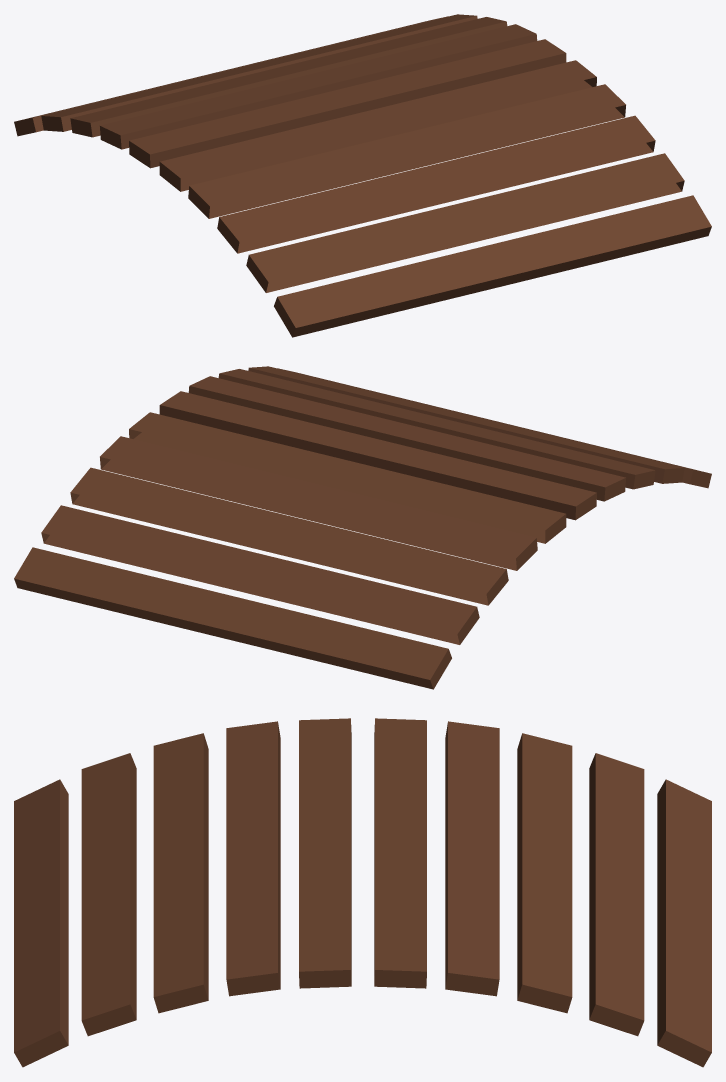
The model's file is Bridge_2.fbx.
The picture shows the model from 3 angles, top to bottom: view 1: azimuth 30°, elevation 25°; view 2: azimuth 150°, elevation 25°; view 3: azimuth 270°, elevation 25°; orthographic projection. The views are drawn at different scales.
Parts seen in each view (by area): view 1: Bridge_2; view 2: Bridge_2; view 3: Bridge_2.
Boxes of the visible parts, left/top/right/bottom form: Bridge_2: left=14, top=14, right=711, bottom=337; Bridge_2: left=14, top=366, right=711, bottom=689; Bridge_2: left=14, top=718, right=711, bottom=1067.
Bounding box in the file's own units: 0.8 × 0.1449 × 0.9384.
